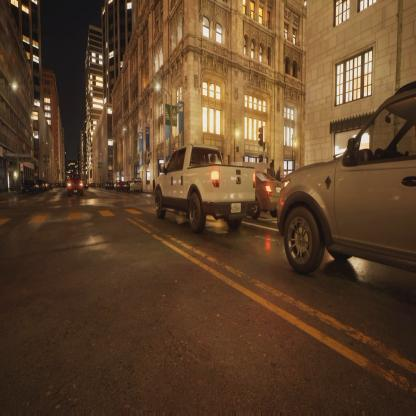License-Plate: (230, 198, 243, 216), (274, 181, 282, 196)
